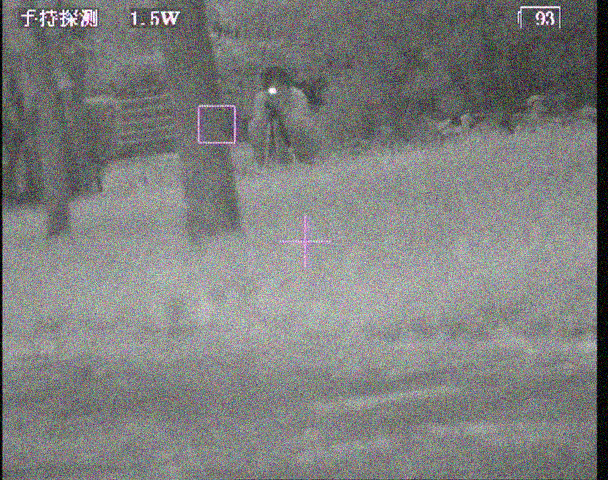my: (268, 84, 278, 97)
